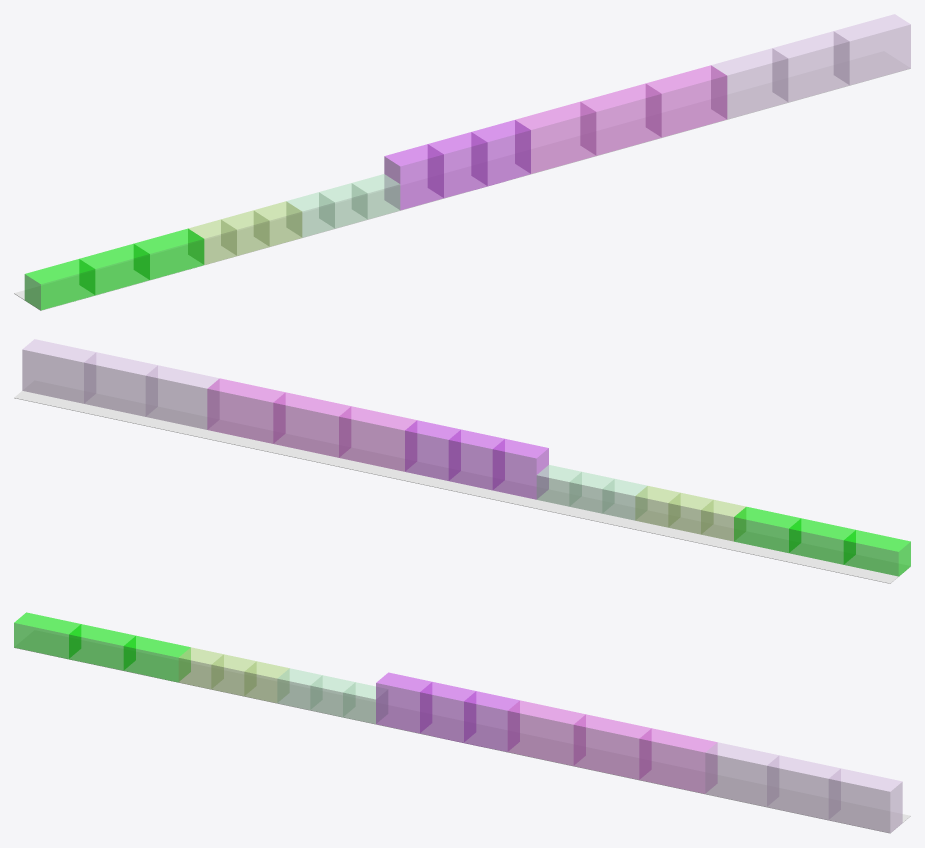
File: RoomRowByWidth.glb
The picture shows the model from 3 angles, top to bottom: view 1: azimuth 30°, elevation 25°; view 2: azimuth 150°, elevation 25°; view 3: azimuth 330°, elevation 25°; orthographic projection. The views are drawn at different scales.
Parts seen in each view (by area): view 1: 7671_mesh, 7656_mesh, 7653_mesh, 7659_mesh, 7665_mesh, 7662_mesh, 7668_mesh, 7647_mesh, 7650_mesh, 7644_mesh, 7617_mesh, 7623_mesh (+7 smaller); view 2: 7671_mesh, 7659_mesh, 7656_mesh, 7653_mesh, 7662_mesh, 7665_mesh, 7668_mesh, 7647_mesh, 7644_mesh, 7650_mesh, 7617_mesh, 7620_mesh (+7 smaller); view 3: 7671_mesh, 7653_mesh, 7656_mesh, 7659_mesh, 7668_mesh, 7665_mesh, 7662_mesh, 7647_mesh, 7650_mesh, 7644_mesh, 7623_mesh, 7617_mesh (+7 smaller).
Part boxes in pixels (<box>): 7671_mesh: <box>14,51,910,310</box>; 7656_mesh: <box>580,83,661,155</box>; 7653_mesh: <box>515,102,596,173</box>; 7659_mesh: <box>646,65,727,137</box>; 7665_mesh: <box>772,31,849,102</box>; 7662_mesh: <box>711,48,788,119</box>; 7668_mesh: <box>834,14,910,84</box>; 7647_mesh: <box>428,132,487,197</box>; 7650_mesh: <box>471,120,530,186</box>; 7644_mesh: <box>384,144,443,210</box>; 7617_mesh: <box>24,259,95,310</box>; 7623_mesh: <box>134,228,204,279</box>; 7671_mesh: <box>14,380,910,583</box>; 7659_mesh: <box>207,378,285,443</box>; 7656_mesh: <box>273,392,350,457</box>; 7653_mesh: <box>339,406,416,471</box>; 7662_mesh: <box>145,365,219,429</box>; 7665_mesh: <box>84,352,157,416</box>; 7668_mesh: <box>22,339,95,403</box>; 7647_mesh: <box>448,429,504,490</box>; 7644_mesh: <box>492,439,548,499</box>; 7650_mesh: <box>405,420,460,480</box>; 7617_mesh: <box>843,530,910,576</box>; 7620_mesh: <box>789,518,855,564</box>; 7671_mesh: <box>14,630,910,833</box>; 7653_mesh: <box>507,700,585,765</box>; 7656_mesh: <box>573,714,651,779</box>; 7659_mesh: <box>639,728,717,793</box>; 7668_mesh: <box>828,768,902,832</box>; 7665_mesh: <box>767,755,840,819</box>; 7662_mesh: <box>705,742,778,806</box>; 7647_mesh: <box>420,682,475,742</box>; 7650_mesh: <box>464,691,519,751</box>; 7644_mesh: <box>376,672,431,733</box>; 7623_mesh: <box>123,635,190,682</box>; 7617_mesh: <box>14,612,80,658</box>.
Size of the model in its own units: 107 by 5 by 11.25.
